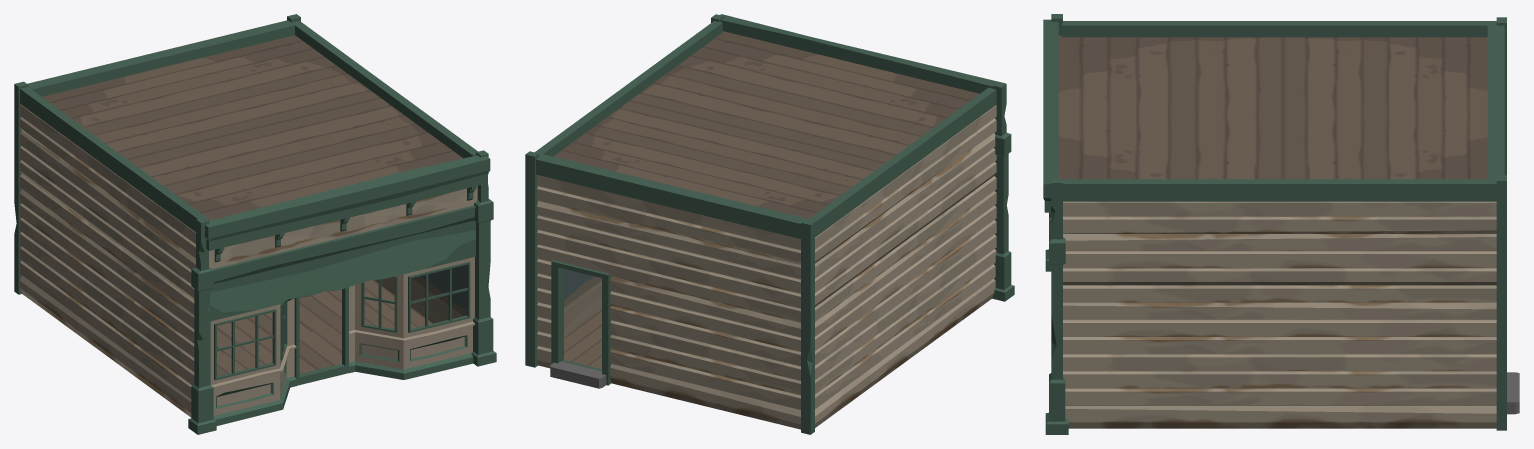
Rendered from SM_Bld_Shop_Small_02.obj.
3 renders of one model, left to right at view 1: azimuth 30°, elevation 25°; view 2: azimuth 150°, elevation 25°; view 3: azimuth 270°, elevation 25°, orthographic. The views are drawn at different scales.
Visible parts, largest first — view 1: SM_Bld_Shop_Small_02_0; view 2: SM_Bld_Shop_Small_02_0; view 3: SM_Bld_Shop_Small_02_0.
Boxes of the visible parts, bbox=[...] form: SM_Bld_Shop_Small_02_0: bbox=[14, 14, 496, 434]; SM_Bld_Shop_Small_02_0: bbox=[525, 14, 1014, 434]; SM_Bld_Shop_Small_02_0: bbox=[1043, 14, 1519, 434].
Bounding box in the file's own units: 7.48 × 5 × 8.64.
1 material, 1 textured.
